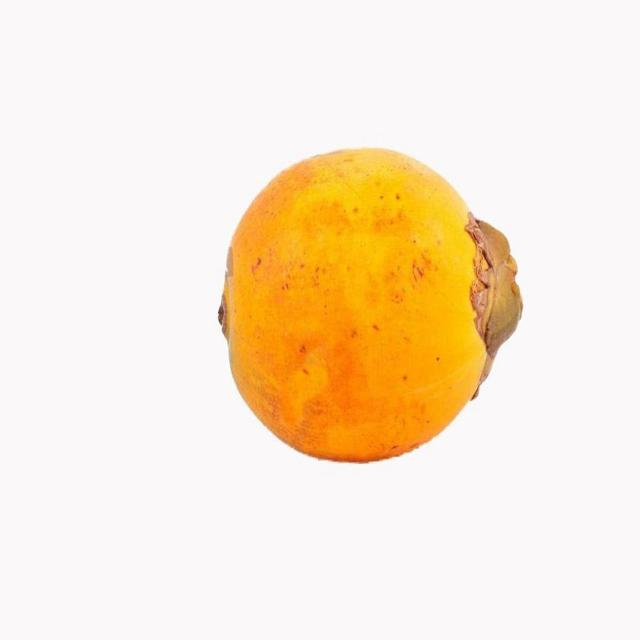good: (217, 148, 523, 466)
